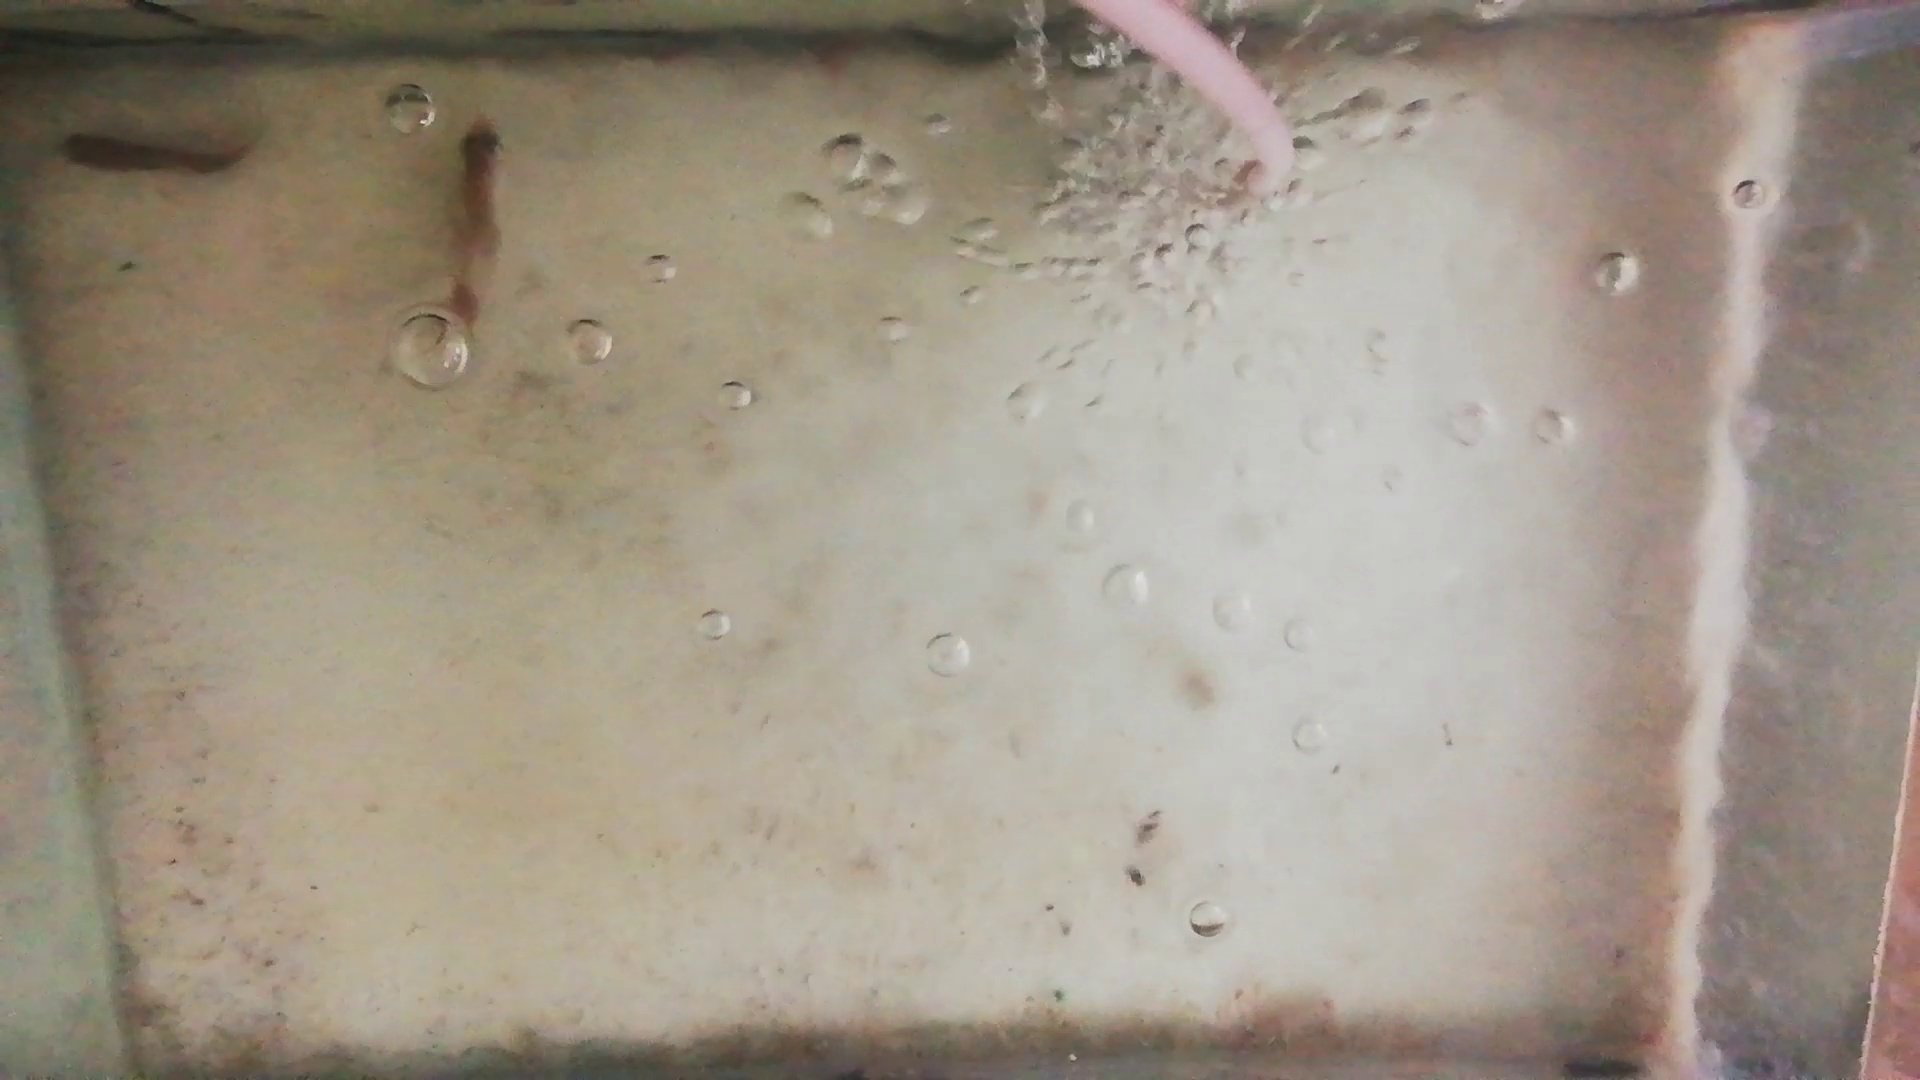fish: (448, 111, 501, 342), (55, 128, 251, 182)
